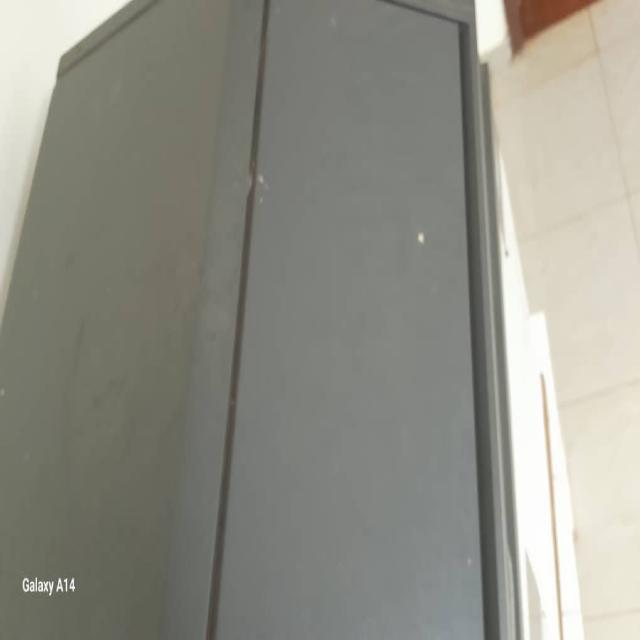Ice Maker: (18, 8, 510, 634)
